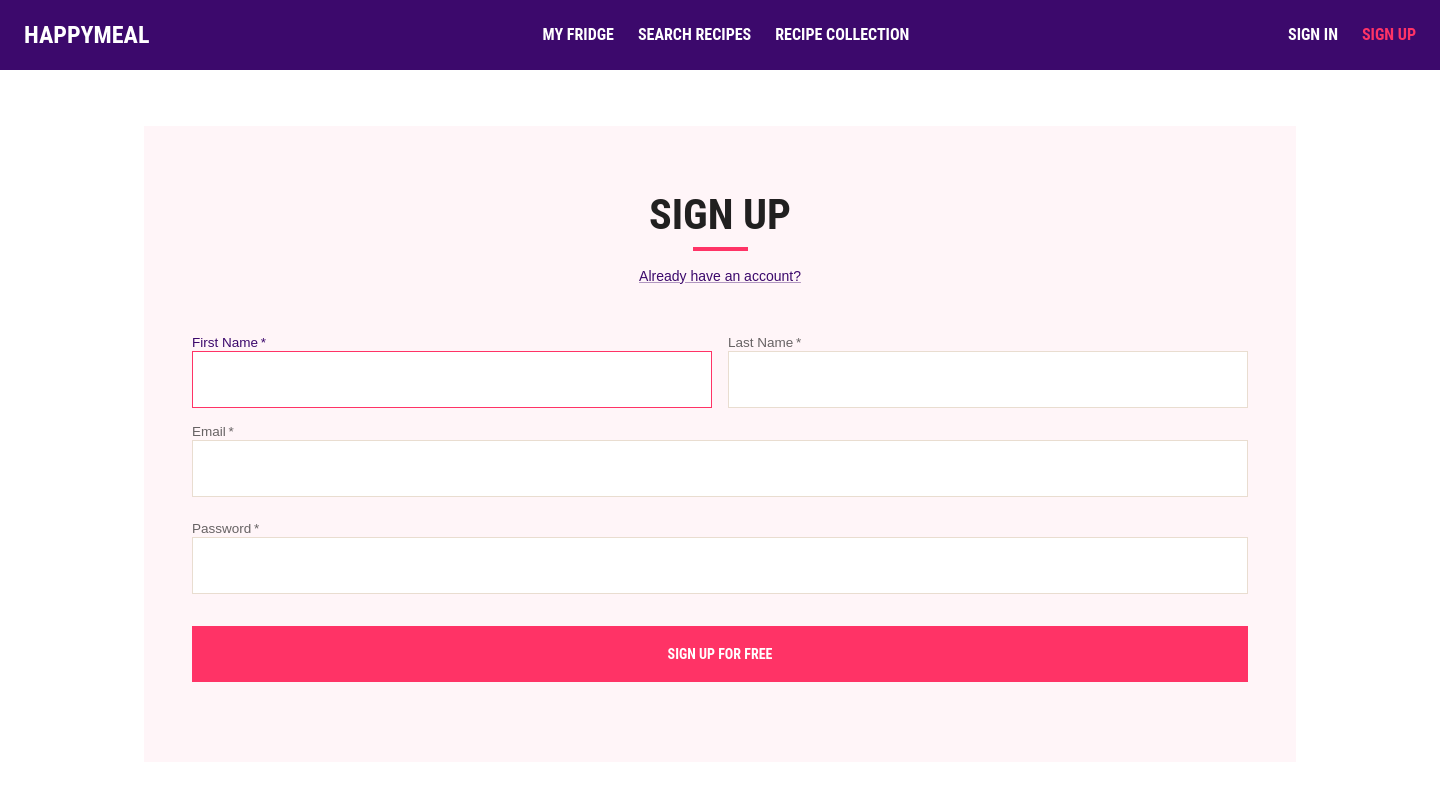
Test: Check if input field validation is showing error message
Click the button with test id "submitButton" at (720, 654), box left=192, top=626, right=1248, bottom=682
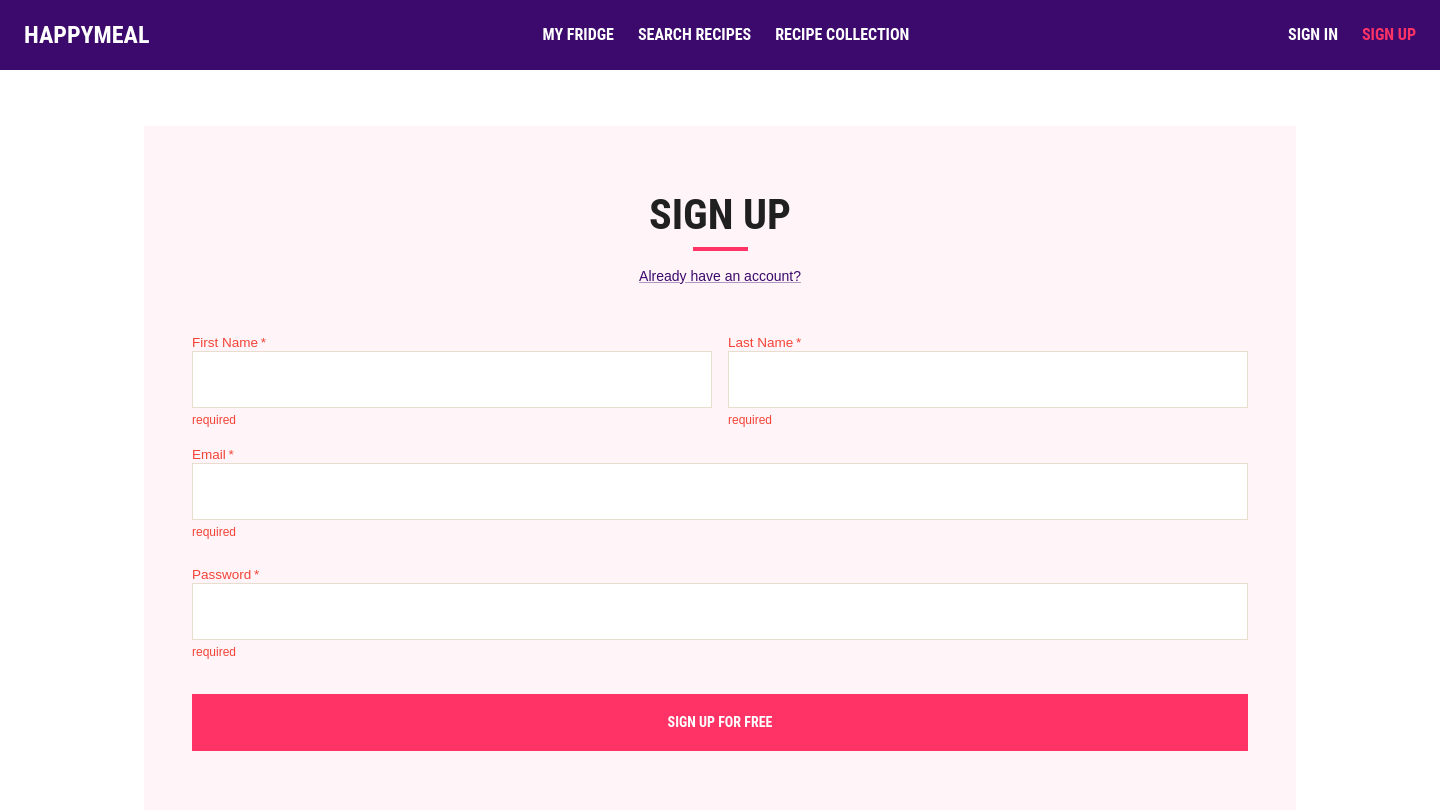
Expected: the text "required" is shown 4 times, left=192, top=413, right=236, bottom=427; left=728, top=413, right=772, bottom=427; left=192, top=525, right=236, bottom=539; left=192, top=644, right=236, bottom=658
